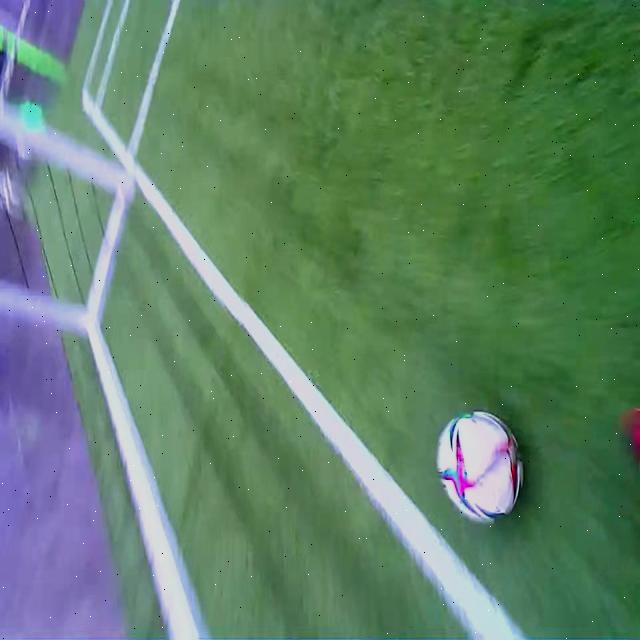ball: (438, 409, 524, 523)
